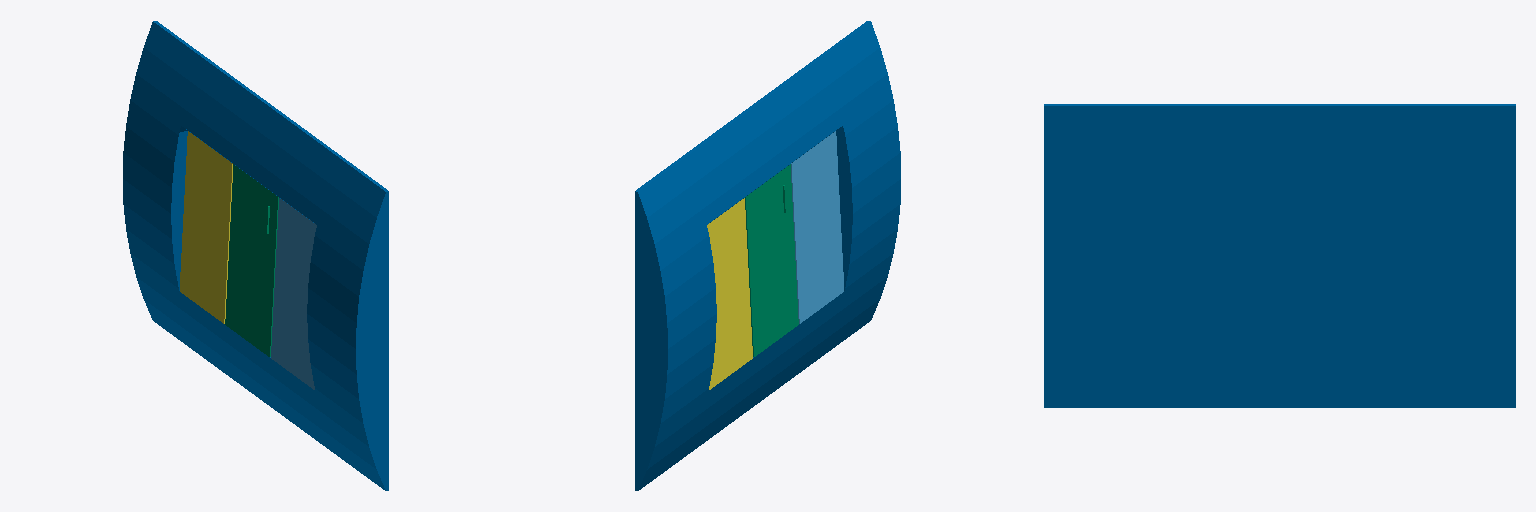
URDF robot description (partnet_ba4e562c7254a4352042b535f7e0616d):
<?xml version="1.0" ?>
<robot name="partnet_ba4e562c7254a4352042b535f7e0616d">
	<link name="base"/>
	<link name="link_0">
		<visual name="switch-1">
			<origin xyz="0 -0.001455999999999985 -0.032494"/>
			<geometry>
				<mesh filename="textured_objs/original-2.obj"/>
			</geometry>
		</visual>
		<collision>
			<origin xyz="0 -0.001455999999999985 -0.032494"/>
			<geometry>
				<mesh filename="textured_objs/original-2.obj"/>
			</geometry>
		</collision>
	</link>
	<joint name="joint_0" type="revolute">
		<origin xyz="0 0.001455999999999985 0.032494"/>
		<axis xyz="1 0 0"/>
		<child link="link_0"/>
		<parent link="link_3"/>
		<limit lower="0.0" upper="0.15707963267948966"/>
	</joint>
	<link name="link_1">
		<visual name="switch-2">
			<origin xyz="0 -0.001455999999999985 -0.032494"/>
			<geometry>
				<mesh filename="textured_objs/original-7.obj"/>
			</geometry>
		</visual>
		<visual name="switch-2">
			<origin xyz="0 -0.001455999999999985 -0.032494"/>
			<geometry>
				<mesh filename="textured_objs/original-6.obj"/>
			</geometry>
		</visual>
		<collision>
			<origin xyz="0 -0.001455999999999985 -0.032494"/>
			<geometry>
				<mesh filename="textured_objs/original-7.obj"/>
			</geometry>
		</collision>
		<collision>
			<origin xyz="0 -0.001455999999999985 -0.032494"/>
			<geometry>
				<mesh filename="textured_objs/original-6.obj"/>
			</geometry>
		</collision>
	</link>
	<joint name="joint_1" type="revolute">
		<origin xyz="0 0.001455999999999985 0.032494"/>
		<axis xyz="1 0 0"/>
		<child link="link_1"/>
		<parent link="link_3"/>
		<limit lower="0.0" upper="0.15707963267948966"/>
	</joint>
	<link name="link_2">
		<visual name="switch-3">
			<origin xyz="0 -0.001455999999999985 -0.032494"/>
			<geometry>
				<mesh filename="textured_objs/original-3.obj"/>
			</geometry>
		</visual>
		<collision>
			<origin xyz="0 -0.001455999999999985 -0.032494"/>
			<geometry>
				<mesh filename="textured_objs/original-3.obj"/>
			</geometry>
		</collision>
	</link>
	<joint name="joint_2" type="revolute">
		<origin xyz="0 0.001455999999999985 0.032494"/>
		<axis xyz="1 0 0"/>
		<child link="link_2"/>
		<parent link="link_3"/>
		<limit lower="0.0" upper="0.15707963267948966"/>
	</joint>
	<link name="link_3">
		<visual name="base_body-4">
			<origin xyz="0 0 0"/>
			<geometry>
				<mesh filename="textured_objs/original-8.obj"/>
			</geometry>
		</visual>
		<visual name="base_body-4">
			<origin xyz="0 0 0"/>
			<geometry>
				<mesh filename="textured_objs/original-5.obj"/>
			</geometry>
		</visual>
		<collision>
			<origin xyz="0 0 0"/>
			<geometry>
				<mesh filename="textured_objs/original-8.obj"/>
			</geometry>
		</collision>
		<collision>
			<origin xyz="0 0 0"/>
			<geometry>
				<mesh filename="textured_objs/original-5.obj"/>
			</geometry>
		</collision>
	</link>
	<joint name="joint_3" type="fixed">
		<origin rpy="1.570796326794897 0 -1.570796326794897" xyz="0 0 0"/>
		<child link="link_3"/>
		<parent link="base"/>
	</joint>
</robot>

--- Facts derived from the render (not from the file) ---
3 views of the same robot in one strip: view 1: azimuth 30°, elevation 25°; view 2: azimuth 150°, elevation 25°; view 3: azimuth 270°, elevation 25° (orthographic).
Model partnet_ba4e562c7254a4352042b535f7e0616d with 5 links and 4 joints (3 revolute, 1 fixed), rooted at base, posed all joints at 0.
Visible links, largest first — view 1: link_3, link_1, link_2, link_0; view 2: link_3, link_1, link_0, link_2; view 3: link_3.
Boxes of the visible links, box(x1,y1,x2,y2) form: link_3: box(123, 21, 388, 490); link_1: box(225, 164, 278, 356); link_2: box(180, 131, 232, 323); link_0: box(271, 198, 316, 389); link_3: box(635, 21, 900, 490); link_1: box(745, 164, 798, 356); link_0: box(791, 131, 843, 323); link_2: box(707, 198, 752, 389); link_3: box(1044, 104, 1515, 407).
Bounding box of the posed robot: 0.1349 × 1.62 × 1.15 m (x, y, z).
6 mesh visuals loaded from 6 distinct referenced files (6 OBJ).